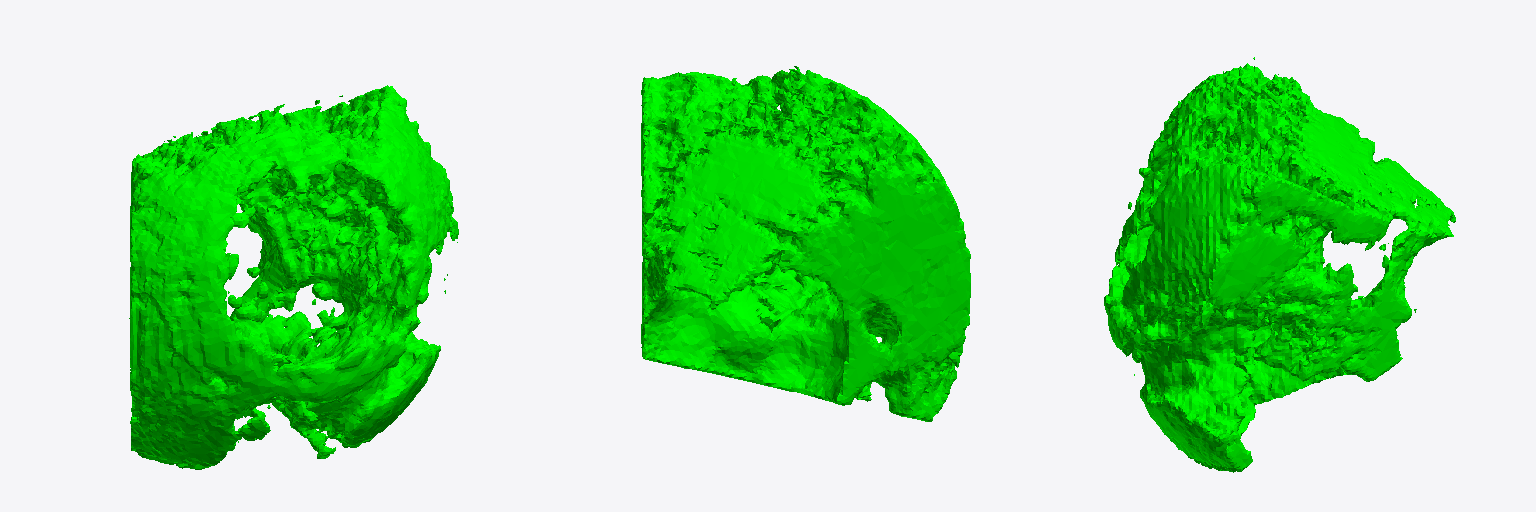
File: B939XXXX-1_base_10.obj
3 renders of one model, left to right at view 1: azimuth 30°, elevation 25°; view 2: azimuth 150°, elevation 25°; view 3: azimuth 270°, elevation 25°, orthographic.
Parts seen in each view (by area): view 1: 10_base; view 2: 10_base; view 3: 10_base.
Part boxes in pixels (x1,y1,x2,y2): 10_base: (129,85,458,469); 10_base: (641,66,970,421); 10_base: (1104,57,1455,472).
Size of the model in its own units: 220 by 219 by 205.